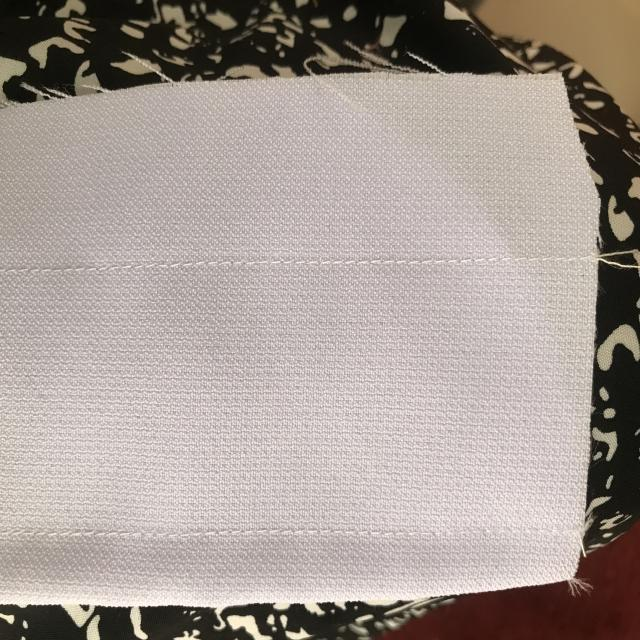good: (287, 239, 469, 282), (51, 253, 221, 285), (46, 521, 233, 548), (283, 515, 392, 557)
